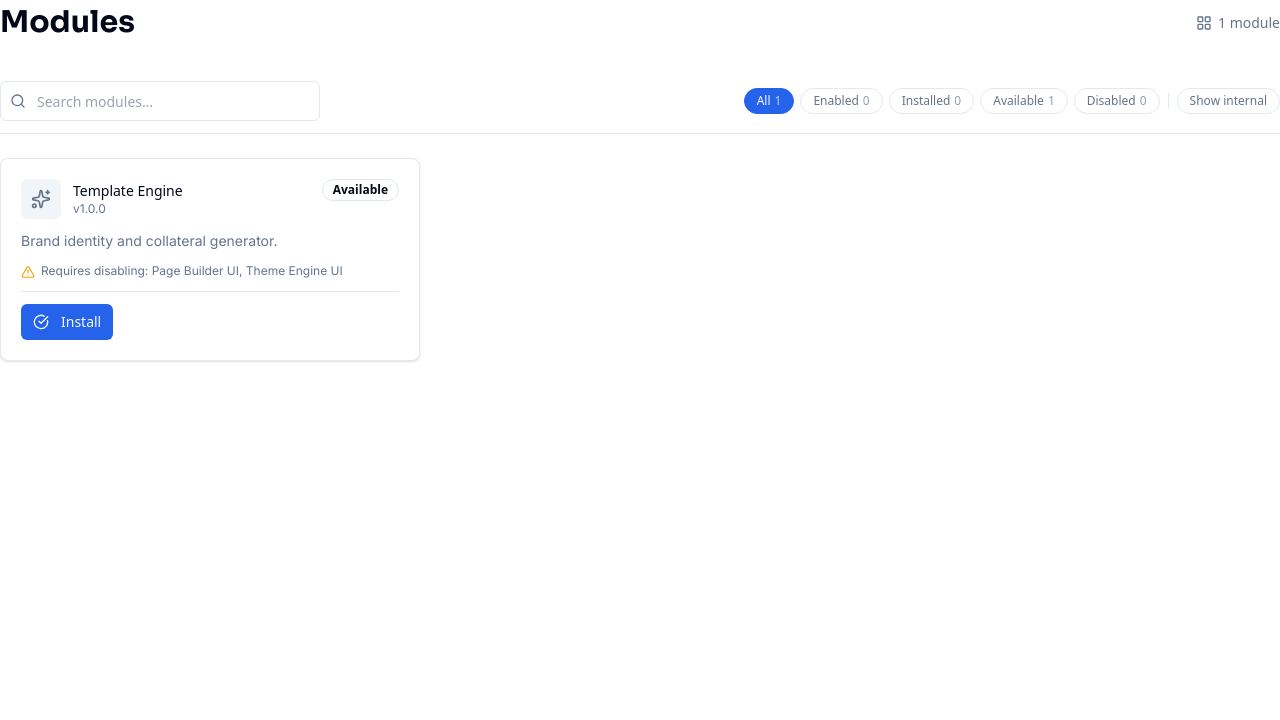
Test: ModulesPage — switch dialog › opens switch dialog listing all blockers when Install is clicked on a conflicted module
The width and height of the screenshot is (1280, 720).
Check: the text "Template Engine" is shown, box [73,181,183,201]
Click the button "Install".
click(67, 322)  # box [21,304,113,340]
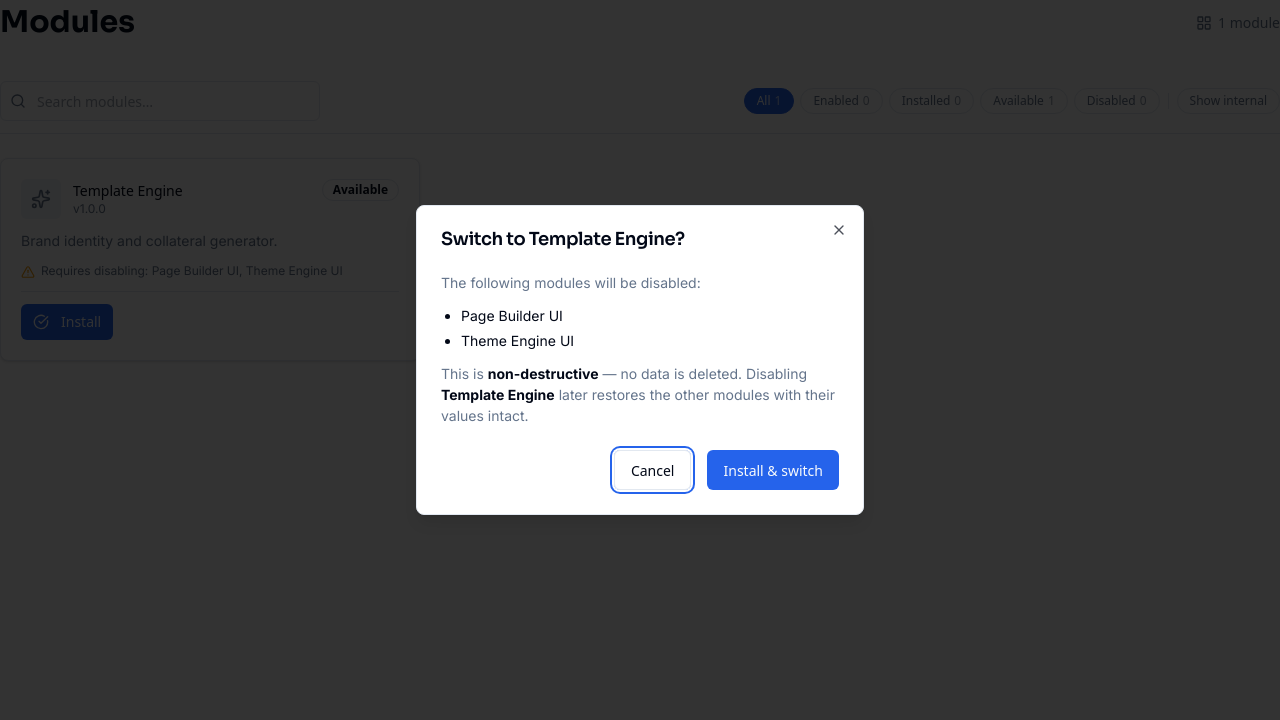
Check: the dialog is shown, box [416,205,864,515]
Check: the heading "Switch to Template Engine?" is shown, box [441,228,685,250]
Check: the list item "Page Builder UI" is shown, box [461,307,563,324]
